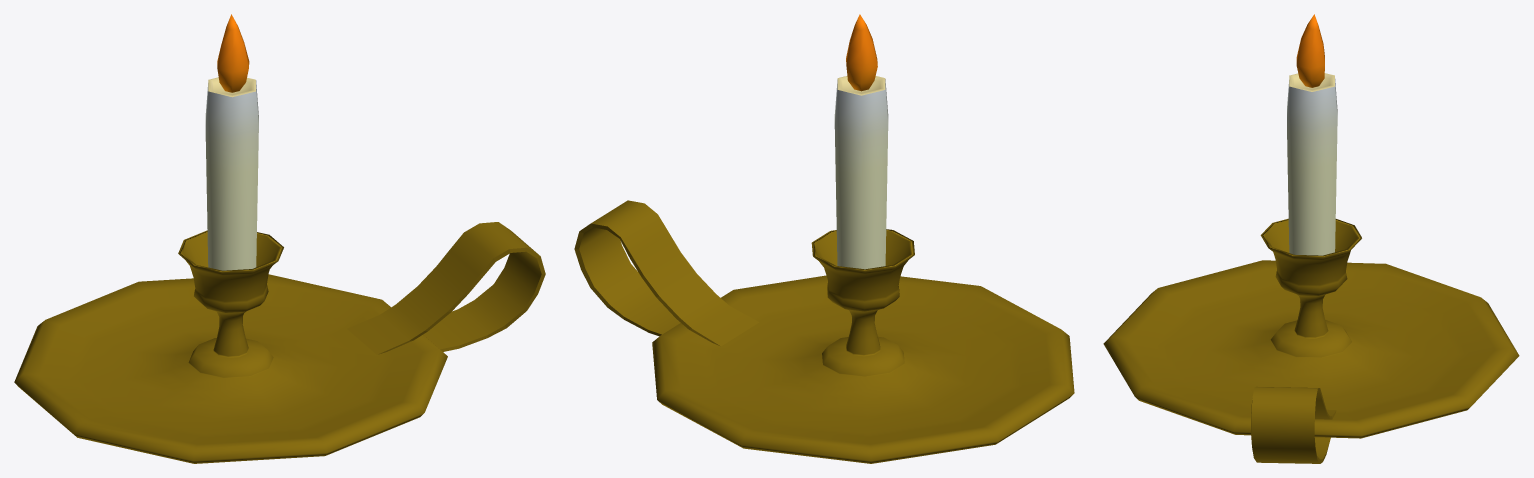
File: BgMD_candle_candleholder (3).fbx
3 views of the same model, side by side, from view 1: azimuth 30°, elevation 25°; view 2: azimuth 150°, elevation 25°; view 3: azimuth 270°, elevation 25° (orthographic). The views are drawn at different scales.
Visible parts, largest first — view 1: Bg_candleholder, Bg_candle_02; view 2: Bg_candleholder, Bg_candle_02; view 3: Bg_candleholder, Bg_candle_02.
Boxes of the visible parts, box(x1,y1,x2,y2) form: Bg_candleholder: box(14, 222, 545, 463); Bg_candle_02: box(205, 14, 258, 270); Bg_candleholder: box(574, 200, 1074, 463); Bg_candle_02: box(834, 14, 888, 269); Bg_candleholder: box(1103, 218, 1519, 463); Bg_candle_02: box(1287, 14, 1337, 255).
Size of the model in its own units: 84.03 by 62.17 by 67.6.
Materials: 2 (2 with a texture image).
